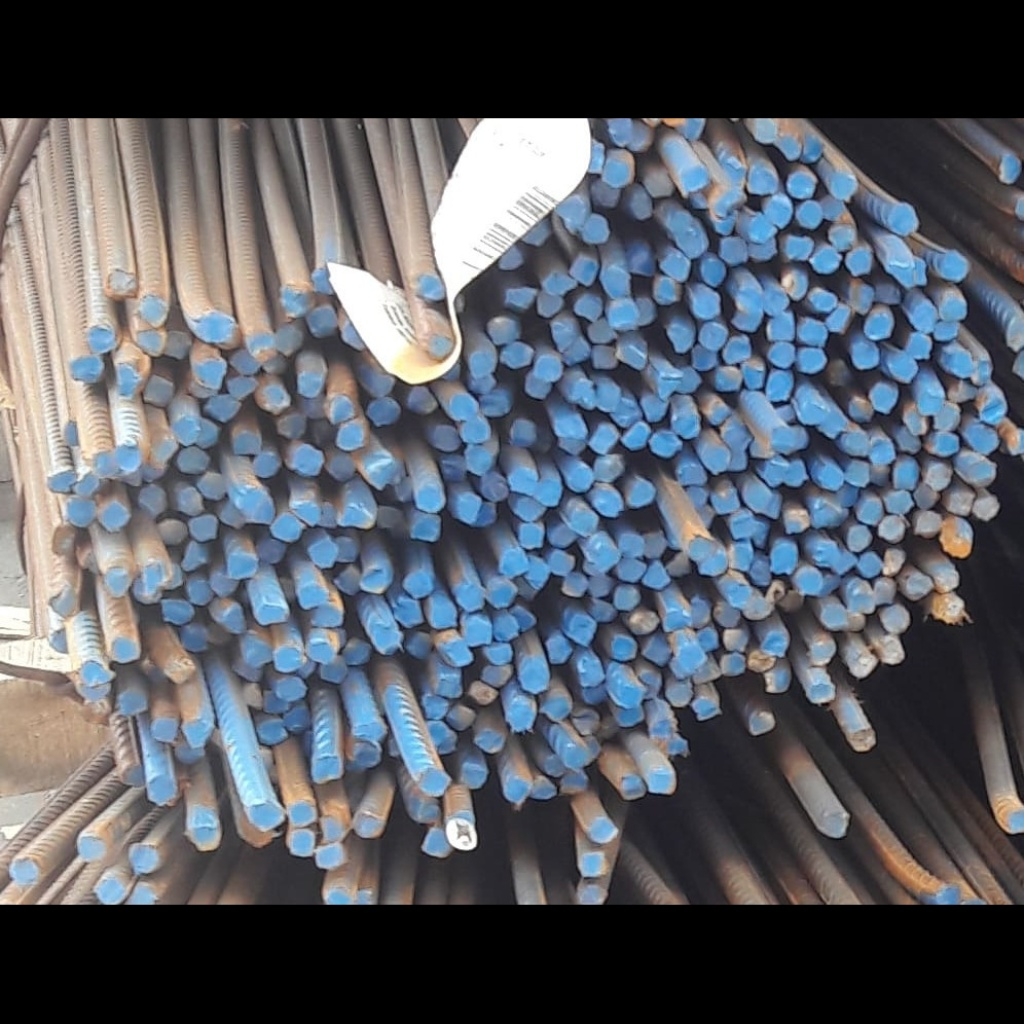dipstick: (239, 485, 275, 523), (940, 519, 974, 559), (957, 454, 996, 487), (194, 311, 234, 343), (248, 797, 285, 831), (357, 362, 393, 396), (103, 266, 136, 302), (426, 720, 459, 755), (584, 536, 617, 571), (676, 221, 707, 258), (557, 195, 588, 231), (202, 394, 240, 422), (290, 444, 323, 476), (965, 423, 998, 455), (337, 503, 375, 530), (308, 307, 339, 340), (361, 456, 392, 489), (602, 265, 631, 300), (282, 284, 313, 316), (127, 842, 159, 873), (485, 578, 517, 609), (617, 338, 648, 370), (932, 593, 964, 624), (366, 395, 400, 424), (134, 326, 165, 357), (246, 328, 276, 360), (350, 810, 380, 842), (420, 827, 452, 857), (889, 202, 919, 234), (439, 638, 472, 667), (786, 171, 819, 200), (762, 194, 791, 227), (68, 353, 102, 381), (714, 188, 748, 216), (77, 659, 115, 684), (195, 358, 226, 388), (99, 500, 129, 531), (608, 301, 638, 332), (748, 165, 778, 196), (180, 540, 209, 572), (374, 622, 403, 654), (405, 385, 437, 414), (568, 614, 597, 646), (691, 288, 720, 320), (814, 459, 843, 491), (417, 766, 450, 794), (257, 385, 291, 412), (49, 583, 76, 617), (637, 665, 663, 700), (86, 323, 116, 353), (660, 251, 690, 281), (888, 353, 918, 383), (137, 484, 166, 515), (504, 701, 535, 730), (603, 157, 632, 188), (593, 454, 624, 483), (171, 413, 199, 445), (273, 645, 305, 673), (310, 754, 342, 782), (430, 597, 458, 629), (649, 430, 681, 458), (590, 421, 618, 453), (746, 215, 778, 243), (161, 599, 194, 626), (347, 737, 380, 764), (909, 300, 936, 333), (926, 431, 960, 457), (138, 296, 168, 325), (64, 497, 94, 526), (142, 559, 171, 589), (164, 653, 194, 682), (308, 538, 337, 568), (460, 416, 490, 445), (455, 581, 484, 611), (614, 679, 644, 708), (620, 421, 649, 451), (944, 348, 973, 378), (273, 325, 304, 353), (326, 451, 354, 482), (720, 236, 748, 267), (107, 635, 139, 662), (188, 824, 220, 851), (538, 693, 570, 720), (500, 342, 533, 368), (996, 151, 1021, 185), (576, 656, 605, 685), (677, 641, 706, 670), (938, 250, 967, 279), (979, 394, 1008, 423), (904, 574, 933, 603), (415, 273, 445, 301), (77, 834, 107, 862), (393, 599, 423, 627), (411, 514, 441, 542), (461, 618, 491, 646), (641, 636, 671, 664), (671, 411, 701, 439), (869, 383, 897, 413), (810, 498, 838, 528), (880, 605, 910, 633), (848, 648, 876, 678), (143, 374, 170, 405), (592, 178, 618, 210), (177, 447, 210, 472), (668, 320, 692, 354), (342, 637, 371, 665), (732, 305, 761, 333), (612, 398, 641, 426), (104, 566, 131, 596), (10, 857, 40, 884), (410, 796, 440, 823), (722, 423, 752, 450), (770, 543, 797, 573), (88, 448, 119, 474), (488, 317, 519, 343), (879, 634, 905, 665), (556, 414, 588, 439), (93, 879, 126, 903), (232, 348, 260, 376), (335, 420, 363, 448), (183, 719, 211, 747), (177, 486, 204, 515), (148, 776, 175, 805), (416, 484, 445, 511), (449, 392, 478, 419), (448, 705, 477, 732), (580, 216, 609, 243), (641, 393, 668, 422), (798, 319, 827, 346), (973, 493, 1000, 522), (688, 532, 715, 561), (423, 334, 453, 360), (319, 813, 345, 843), (594, 491, 624, 517), (679, 164, 709, 190), (570, 378, 596, 408), (925, 461, 951, 491), (542, 270, 573, 295), (894, 458, 919, 489), (848, 582, 873, 613), (597, 379, 620, 412), (288, 800, 316, 827), (319, 656, 346, 684), (272, 514, 300, 541), (257, 535, 285, 562), (403, 570, 431, 597), (464, 445, 491, 473), (468, 350, 496, 377), (647, 767, 675, 794), (766, 314, 794, 341), (258, 719, 287, 745), (431, 425, 460, 451), (481, 472, 507, 501), (508, 468, 537, 494), (509, 419, 535, 448), (628, 478, 654, 507), (629, 247, 655, 276), (797, 348, 826, 374), (918, 387, 944, 416), (944, 490, 973, 516), (820, 810, 849, 836), (252, 454, 282, 479), (514, 497, 544, 522), (353, 718, 387, 740), (165, 332, 192, 359), (297, 371, 324, 398), (118, 688, 145, 715), (150, 716, 177, 743), (360, 567, 387, 594), (501, 549, 528, 576), (699, 322, 726, 349), (913, 510, 940, 537), (327, 393, 353, 421), (291, 501, 319, 527), (527, 557, 549, 590), (674, 464, 707, 486), (198, 474, 227, 499), (159, 519, 188, 544), (288, 828, 313, 857), (521, 667, 550, 692), (546, 635, 571, 664), (572, 255, 597, 284), (703, 444, 728, 473), (710, 488, 739, 513), (221, 603, 245, 633), (686, 597, 710, 627), (883, 490, 913, 514), (119, 363, 140, 397), (849, 283, 872, 314), (311, 605, 343, 627), (610, 635, 637, 661), (830, 172, 856, 199), (851, 343, 878, 369), (933, 404, 960, 430), (743, 484, 770, 510), (820, 604, 846, 631), (808, 639, 835, 665), (299, 582, 327, 607), (316, 843, 344, 868), (518, 522, 543, 550), (460, 762, 488, 787), (617, 558, 645, 583), (723, 338, 751, 363), (812, 248, 840, 273), (766, 342, 794, 367), (117, 440, 141, 469), (232, 429, 261, 453), (277, 413, 306, 437), (189, 516, 218, 540), (433, 675, 462, 699), (630, 611, 659, 635), (701, 258, 725, 287), (903, 403, 926, 433), (807, 680, 837, 703), (473, 730, 504, 752), (504, 777, 530, 803), (568, 465, 593, 492), (762, 287, 787, 314), (782, 273, 807, 300), (766, 372, 791, 399), (904, 333, 931, 358), (912, 482, 937, 509), (880, 515, 905, 542), (713, 603, 740, 628), (286, 707, 310, 735), (480, 393, 508, 417), (420, 695, 448, 719), (469, 680, 497, 704), (588, 818, 616, 842), (718, 653, 746, 677), (645, 562, 669, 590), (652, 276, 676, 304), (845, 459, 869, 487), (728, 542, 752, 570), (312, 265, 335, 294), (244, 642, 273, 665), (337, 565, 360, 594), (561, 771, 590, 794), (799, 401, 828, 424), (884, 249, 913, 272), (232, 659, 262, 681), (457, 492, 479, 522), (647, 718, 677, 740), (174, 742, 205, 763), (750, 555, 771, 586), (729, 586, 760, 607), (181, 626, 207, 651), (498, 243, 523, 269), (573, 709, 598, 735), (578, 851, 604, 876), (666, 552, 692, 577), (564, 338, 590, 363), (606, 119, 631, 145), (846, 249, 871, 275), (864, 314, 889, 340), (844, 430, 870, 455), (767, 426, 792, 452), (797, 570, 823, 595), (133, 579, 160, 603), (188, 577, 212, 604), (211, 572, 238, 596), (307, 640, 334, 664), (534, 355, 561, 379), (589, 319, 616, 343), (574, 295, 601, 319), (645, 172, 672, 196), (778, 134, 802, 161), (749, 239, 776, 263), (828, 224, 855, 248), (939, 296, 966, 320), (849, 395, 873, 422), (786, 461, 810, 488), (151, 435, 174, 463), (194, 419, 217, 447), (510, 607, 538, 630), (785, 236, 813, 259), (228, 554, 257, 576), (505, 285, 534, 307), (629, 191, 651, 220), (277, 679, 307, 700), (551, 320, 572, 350), (744, 597, 774, 618), (1006, 314, 1023, 351), (263, 688, 288, 713), (619, 534, 644, 559), (870, 439, 895, 464), (857, 552, 882, 577), (850, 727, 875, 752), (378, 505, 404, 529), (537, 291, 561, 317), (538, 479, 562, 505), (550, 550, 574, 576), (494, 615, 518, 641), (565, 743, 591, 767), (593, 345, 617, 371), (706, 401, 732, 425), (798, 202, 822, 228), (700, 549, 726, 573), (814, 540, 838, 566), (764, 669, 790, 693), (748, 711, 775, 734), (715, 367, 742, 390), (257, 603, 288, 623), (692, 697, 720, 719), (663, 607, 691, 629), (301, 395, 325, 420), (218, 503, 243, 527), (481, 664, 511, 684), (614, 706, 644, 726), (667, 682, 691, 707), (526, 373, 550, 398), (972, 356, 992, 386), (762, 632, 787, 656), (442, 455, 465, 481), (620, 776, 646, 799), (827, 307, 850, 333), (763, 461, 786, 487), (934, 569, 960, 592), (321, 884, 354, 902), (801, 134, 822, 162), (722, 628, 746, 652), (752, 119, 776, 143), (897, 429, 921, 453), (408, 632, 431, 657), (562, 573, 587, 596), (614, 586, 639, 609), (665, 211, 688, 236), (821, 195, 844, 220), (784, 509, 809, 532), (859, 498, 881, 524), (874, 577, 896, 603), (48, 471, 75, 492), (571, 514, 598, 535), (873, 285, 900, 306), (77, 683, 110, 700), (947, 381, 975, 401), (120, 764, 144, 787), (542, 753, 565, 777), (589, 576, 613, 599), (692, 346, 716, 369), (730, 515, 754, 538), (832, 549, 855, 573), (736, 285, 761, 307), (336, 537, 357, 563), (468, 372, 494, 393), (686, 484, 707, 510), (883, 549, 904, 575), (531, 778, 558, 798), (632, 122, 650, 152), (742, 362, 762, 389), (727, 449, 750, 472), (849, 526, 871, 550), (777, 589, 801, 611), (551, 524, 576, 545), (659, 371, 680, 396), (228, 376, 257, 394), (581, 686, 607, 706), (559, 437, 586, 456), (590, 600, 615, 620), (485, 644, 511, 663), (748, 652, 774, 671), (638, 298, 656, 325), (77, 473, 97, 497), (477, 502, 497, 526), (754, 518, 769, 550), (682, 368, 701, 393), (810, 290, 835, 309), (698, 628, 720, 649), (870, 464, 889, 487), (264, 356, 287, 374), (846, 613, 866, 632)
